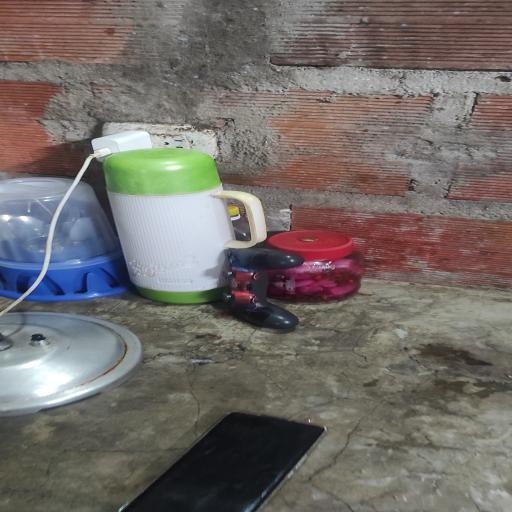ControlPlay4: (224, 248, 304, 330)
